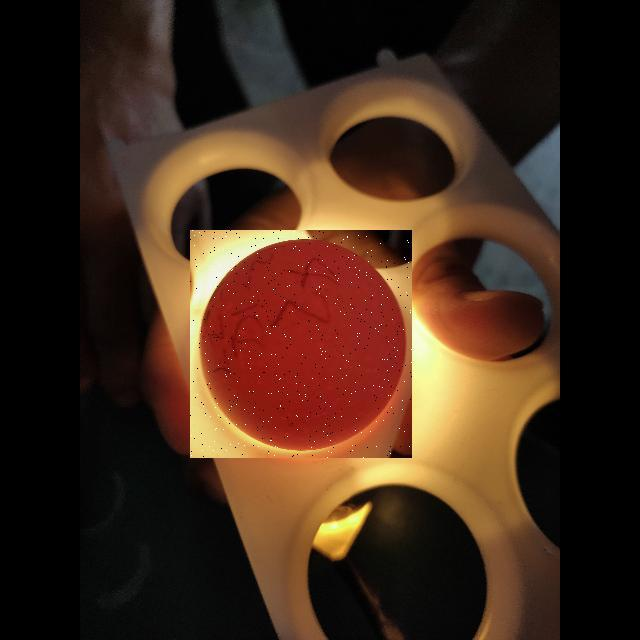Infertile: (190, 230, 412, 458)
